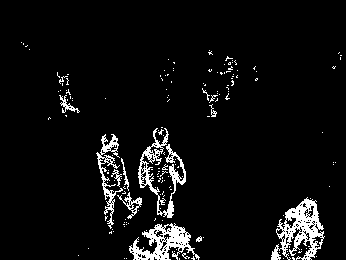person: (93, 131, 143, 234), (136, 126, 189, 222), (54, 70, 83, 117)
